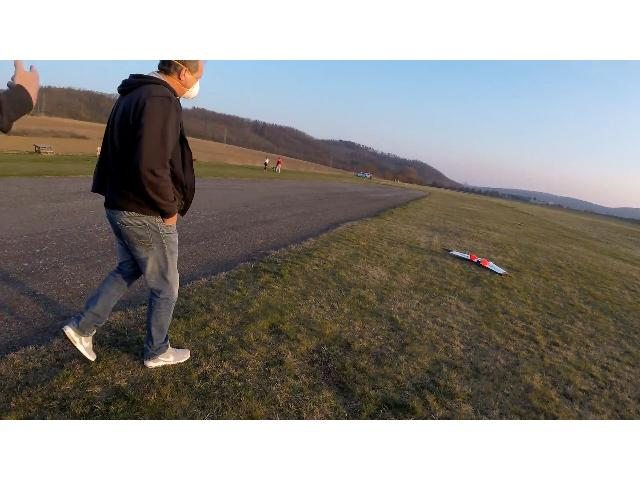Anti-Drone: (436, 236, 508, 283)
